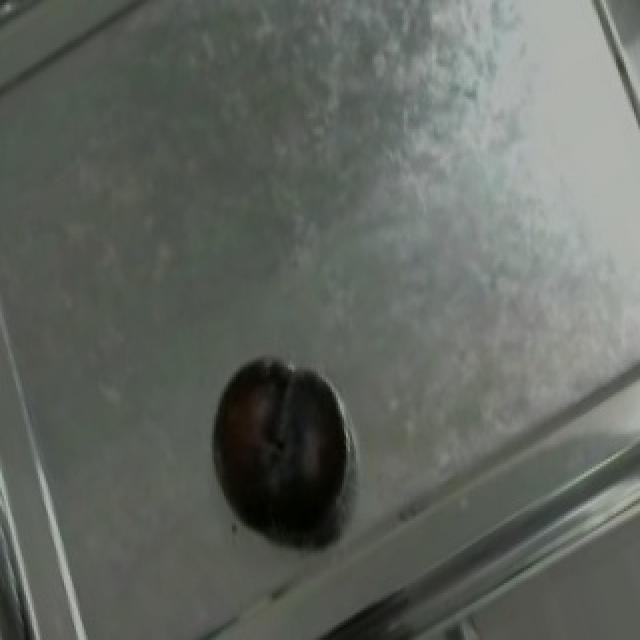Fruit: (188, 350, 366, 550)
